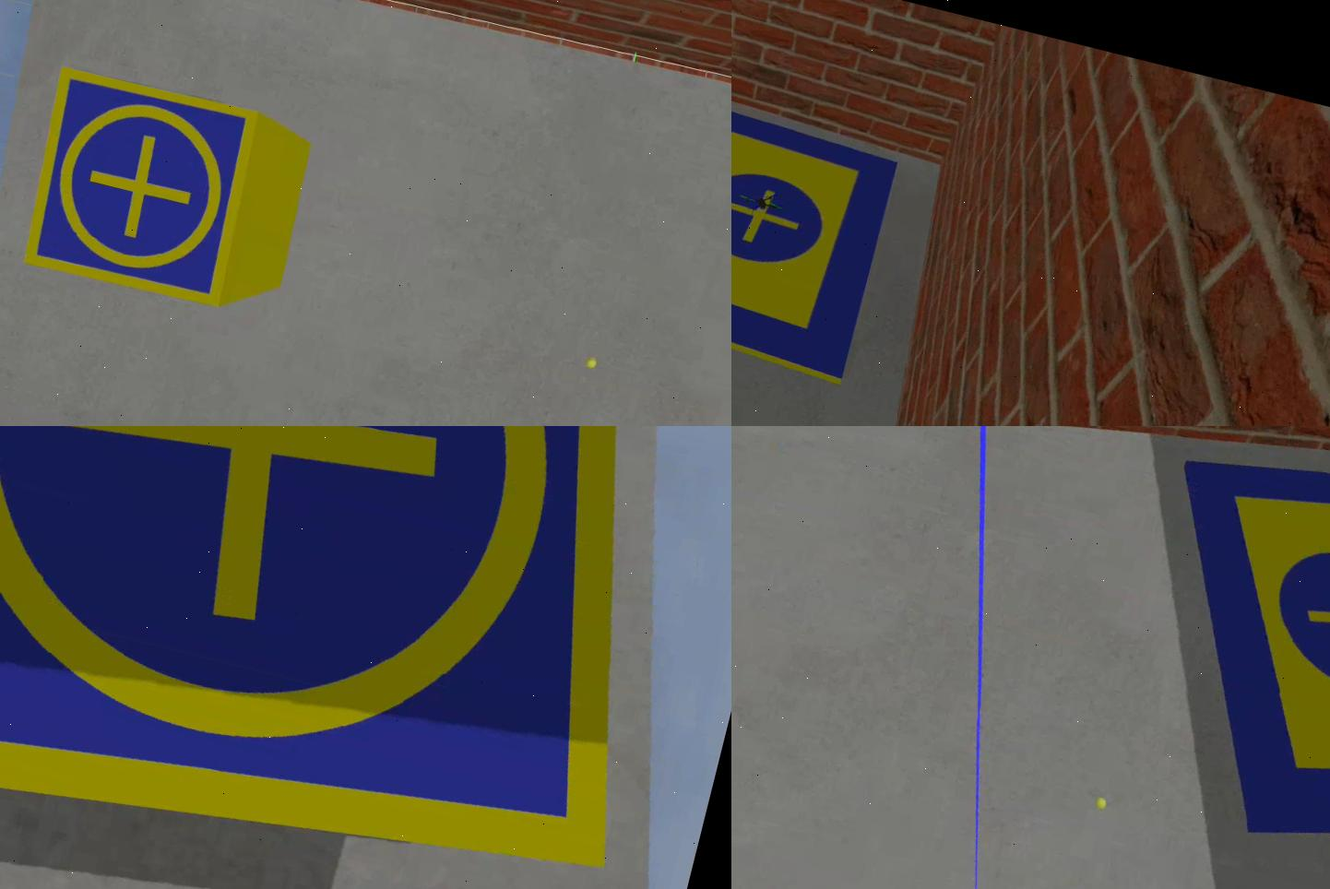large_base: (1100, 427, 1330, 889), (732, 77, 908, 392)
small_base: (1, 427, 732, 889), (8, 59, 273, 315)
